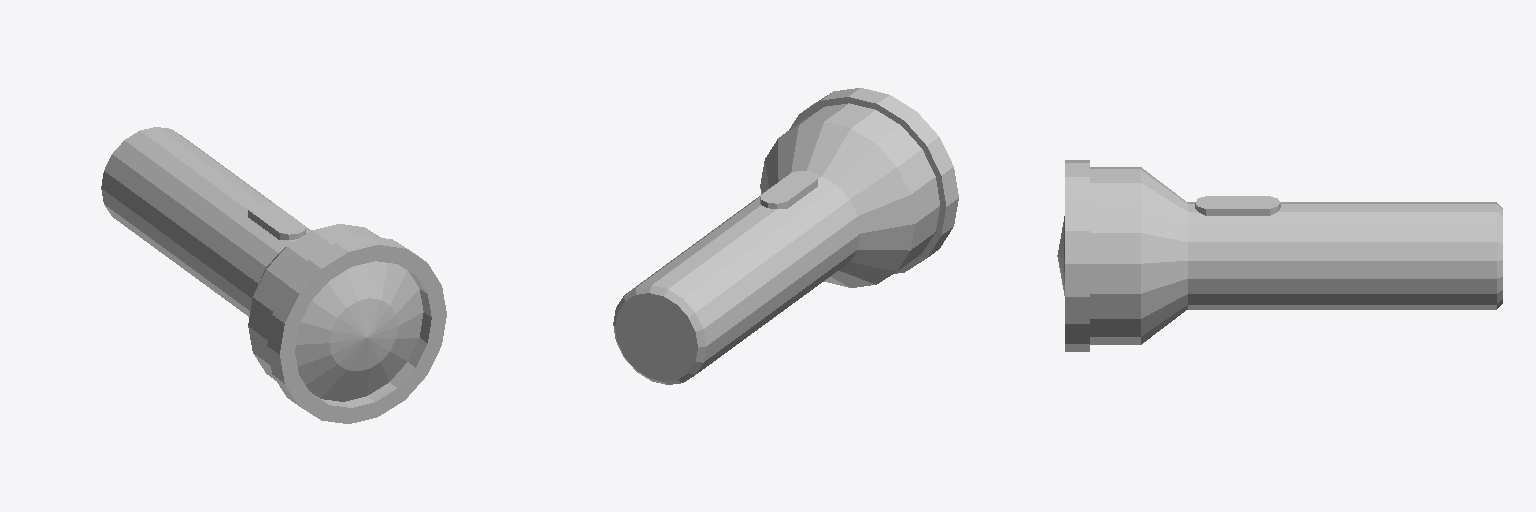
Rendered from light.obj.
The picture shows the model from 3 angles: view 1: azimuth 30°, elevation 25°; view 2: azimuth 150°, elevation 25°; view 3: azimuth 270°, elevation 25°; orthographic projection.
Parts seen in each view (by area): view 1: Cylinder002; view 2: Cylinder002; view 3: Cylinder002.
Part boxes in pixels (bbox=[...]): Cylinder002: bbox=[101, 127, 446, 423]; Cylinder002: bbox=[613, 88, 958, 384]; Cylinder002: bbox=[1057, 160, 1502, 351].
Size of the model in its own units: 117 by 115 by 269.